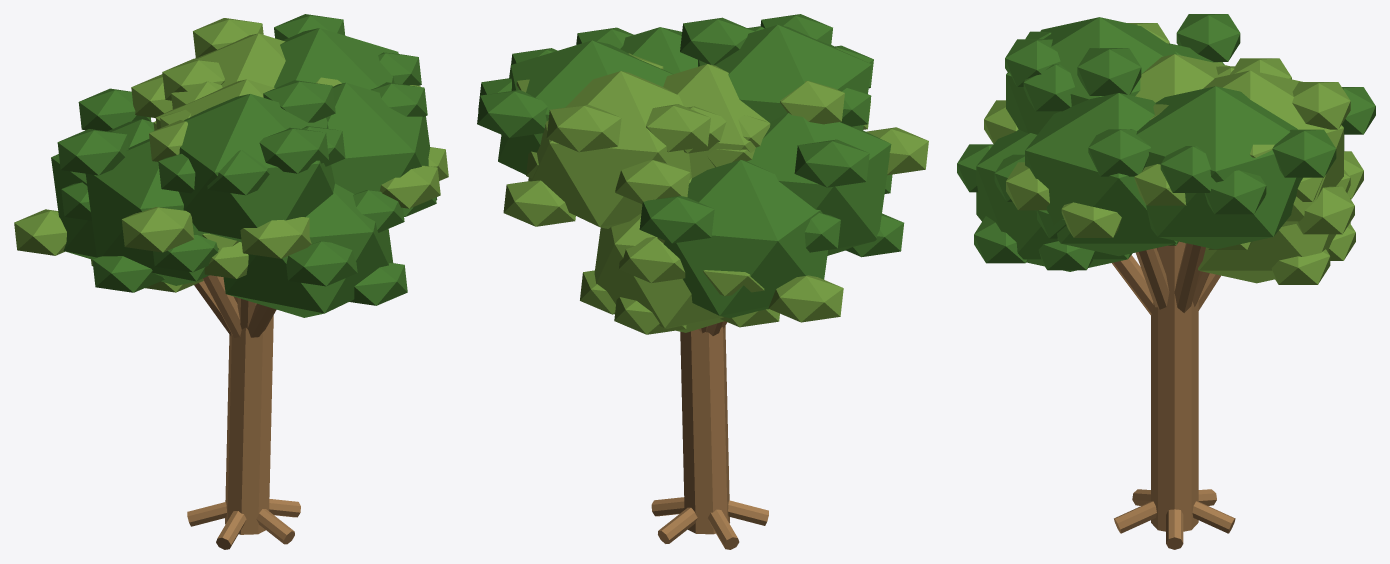
File: tree_oak.glb
3 renders of one model, left to right at view 1: azimuth 30°, elevation 25°; view 2: azimuth 150°, elevation 25°; view 3: azimuth 270°, elevation 25°, orthographic. The views are drawn at different scales.
Visible parts, largest first — view 1: tree_oak; view 2: tree_oak; view 3: tree_oak.
Part boxes in pixels (left/top/right/bottom): tree_oak: left=14, top=14, right=448, bottom=549; tree_oak: left=477, top=14, right=928, bottom=549; tree_oak: left=957, top=14, right=1375, bottom=549.
Bounding box in the file's own units: 3.58 × 4.34 × 3.34.
